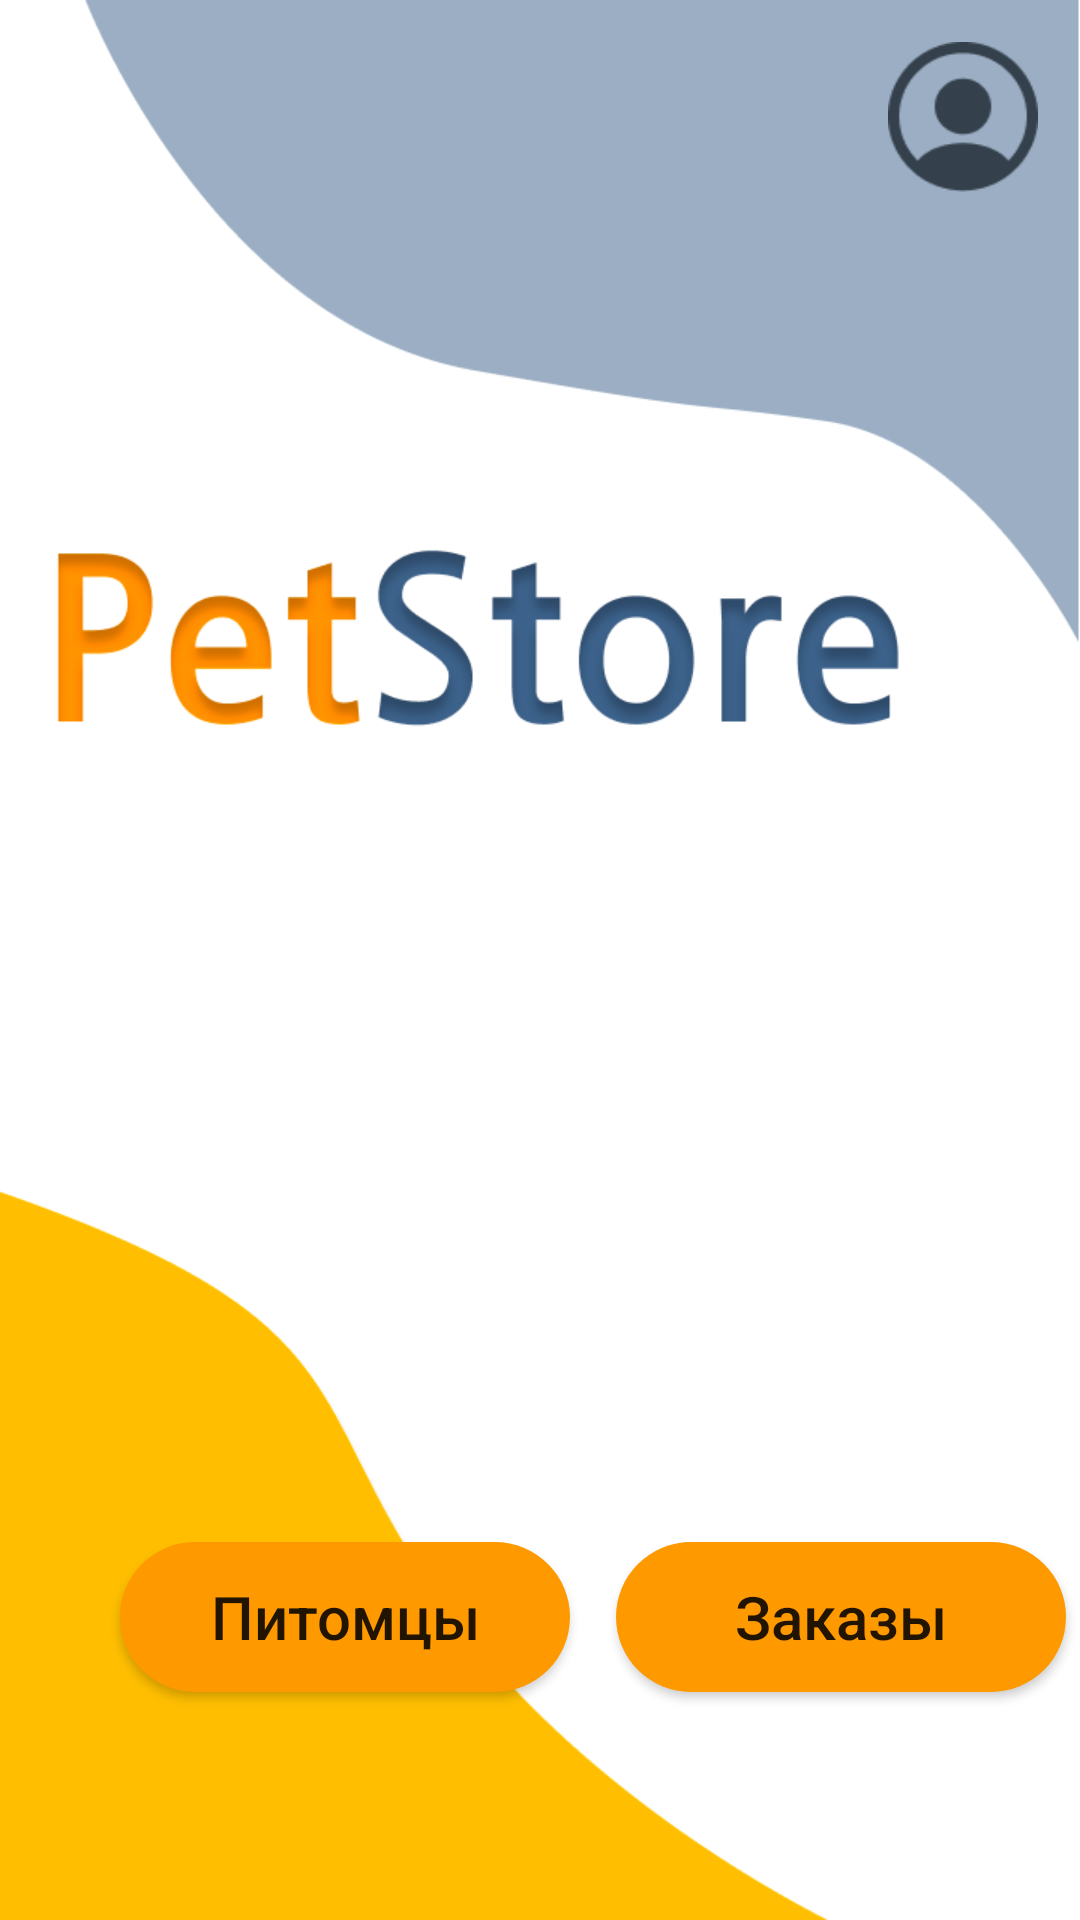

Icon bounding boxes for this 1080*1920 phone screenshot, format (x1, y1, x2, y2):
profile: (888, 42, 1038, 192)
